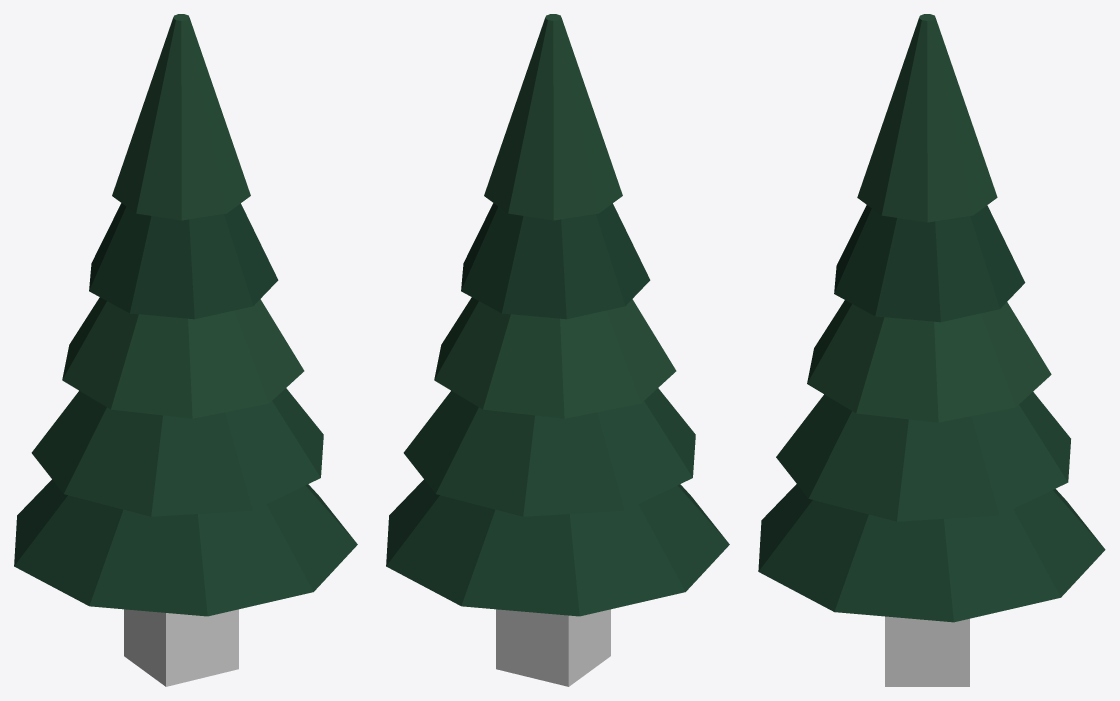
File: abeto_nevado_1.glb
The picture shows the model from 3 angles, left to right: view 1: azimuth 30°, elevation 25°; view 2: azimuth 150°, elevation 25°; view 3: azimuth 270°, elevation 25°; orthographic projection.
Parts seen in each view (by area): view 1: abeto_nevado_1_Malla, COL_0; view 2: abeto_nevado_1_Malla, COL_0; view 3: abeto_nevado_1_Malla, COL_0.
Part boxes in pixels (<box>): abeto_nevado_1_Malla: <box>14,14,357,616</box>; COL_0: <box>124,609,238,686</box>; abeto_nevado_1_Malla: <box>386,14,729,616</box>; COL_0: <box>496,609,610,686</box>; abeto_nevado_1_Malla: <box>758,14,1105,622</box>; COL_0: <box>885,616,969,686</box>.
Size of the model in its own units: 3.31 by 6.78 by 3.27.
